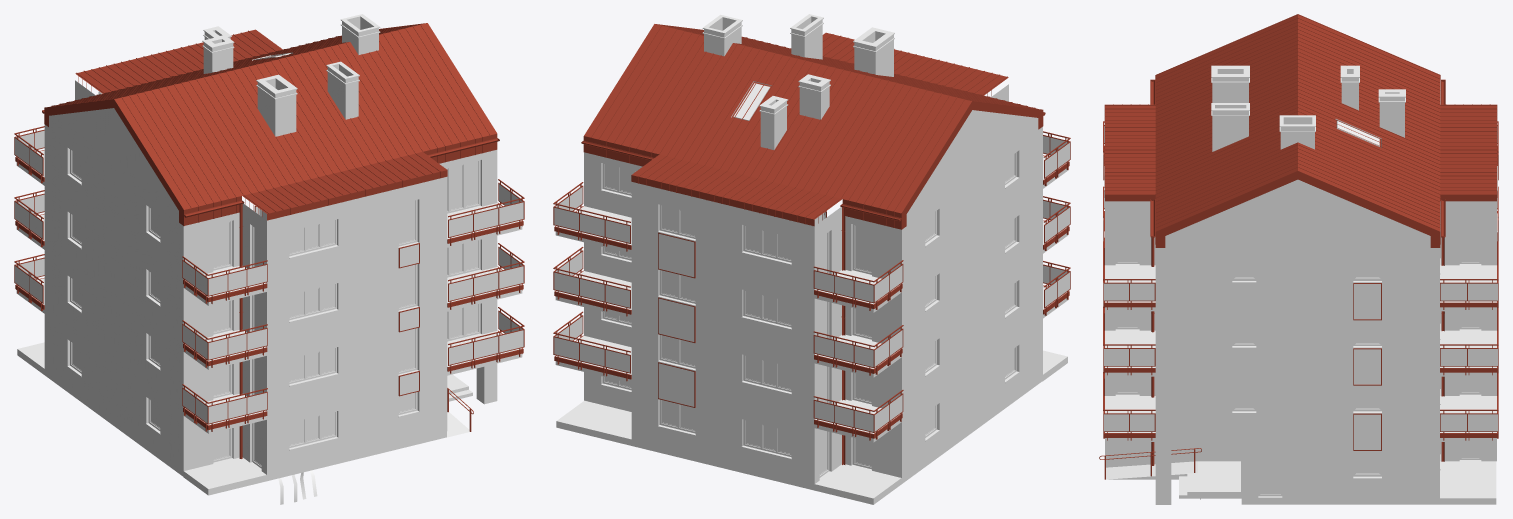
The model's file is building.glb.
The picture shows the model from 3 angles, left to right: view 1: azimuth 30°, elevation 25°; view 2: azimuth 150°, elevation 25°; view 3: azimuth 270°, elevation 25°; orthographic projection. The views are drawn at different scales.
Parts seen in each view (by area): view 1: building_walls, roof, foundation_wall, window.005, barrels, chimney, balcony, metal_cover, terrace, boards, eneter_floor, gutters.002 (+1 smaller); view 2: building_walls, roof, foundation_wall, window.005, barrels, chimney, balcony, terrace, boards.001, metal_cover, window_roof, gutters.002 (+1 smaller); view 3: building_walls, roof, foundation_wall, window.005, barrels, balcony, chimney, boards.001, eneter_floor, terrace, metal_cover, roof_plate (+3 smaller).
Part boxes in pixels (x1,y1,x2,y2): building_walls: (44,80,497,410); roof: (44,23,497,225); foundation_wall: (44,306,447,481); window.005: (67,91,480,468); barrels: (14,126,524,431); chimney: (202,14,380,136); balcony: (16,150,522,433); metal_cover: (15,150,523,430); terrace: (17,342,266,495); boards: (398,243,419,396); eneter_floor: (447,374,472,437); gutters.002: (239,204,242,458); building_walls: (584,84,1042,419); roof: (583,24,1043,229); foundation_wall: (584,310,1042,490); window.005: (601,95,1019,477); barrels: (553,131,1070,440); chimney: (702,14,894,149); balcony: (555,156,1067,442); terrace: (556,350,1067,504); boards.001: (658,232,695,407); metal_cover: (554,155,1069,438); window_roof: (731,81,771,120); gutters.002: (841,207,845,464); building_walls: (1105,179,1496,504); roof: (1104,14,1497,247); foundation_wall: (1105,433,1496,504); window.005: (1104,166,1497,498); barrels: (1103,121,1498,440); balcony: (1105,264,1496,441); chimney: (1211,65,1405,151); boards.001: (1353,232,1497,450); eneter_floor: (1106,461,1241,498); terrace: (1439,460,1496,504); metal_cover: (1104,145,1497,437); roof_plate: (1105,104,1496,201).
Bounding box in the file's own units: 15.55 × 19.52 × 16.63.
